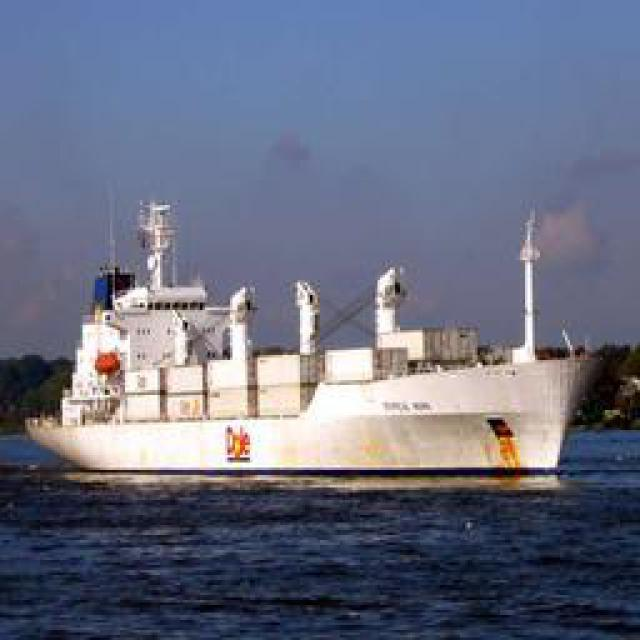Ship: (19, 296, 622, 484)
